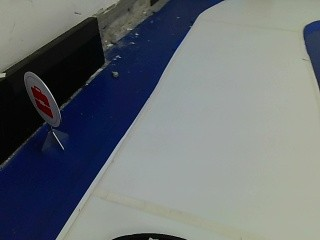company: (21, 68, 61, 128)
